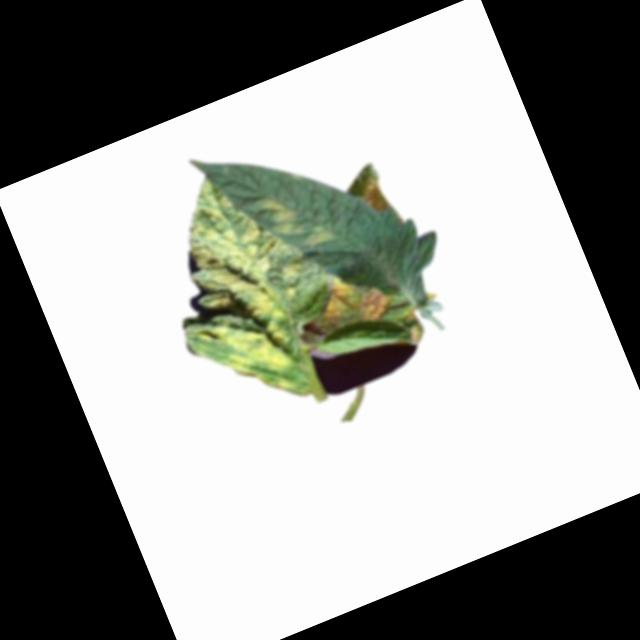Leaf_Mold: (134, 159, 346, 431), (290, 262, 395, 349), (256, 186, 298, 237), (291, 218, 341, 254), (353, 174, 391, 216)
